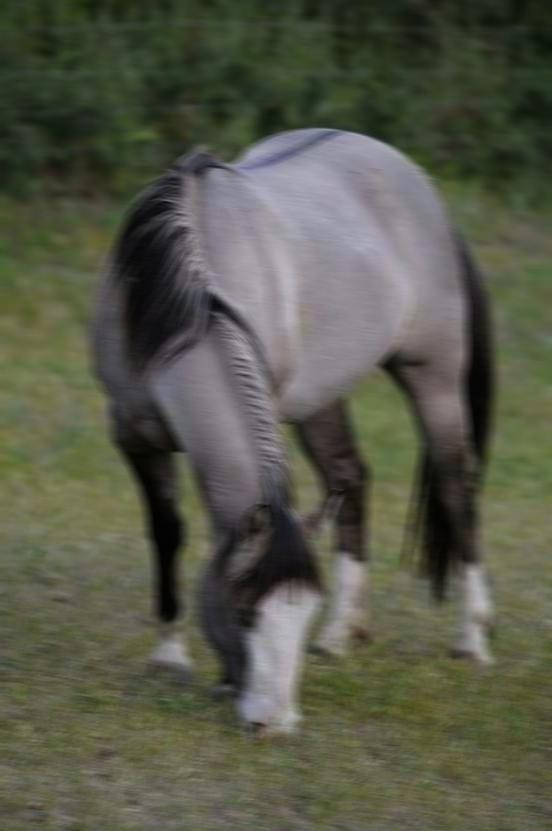horse: (87, 125, 498, 745)
